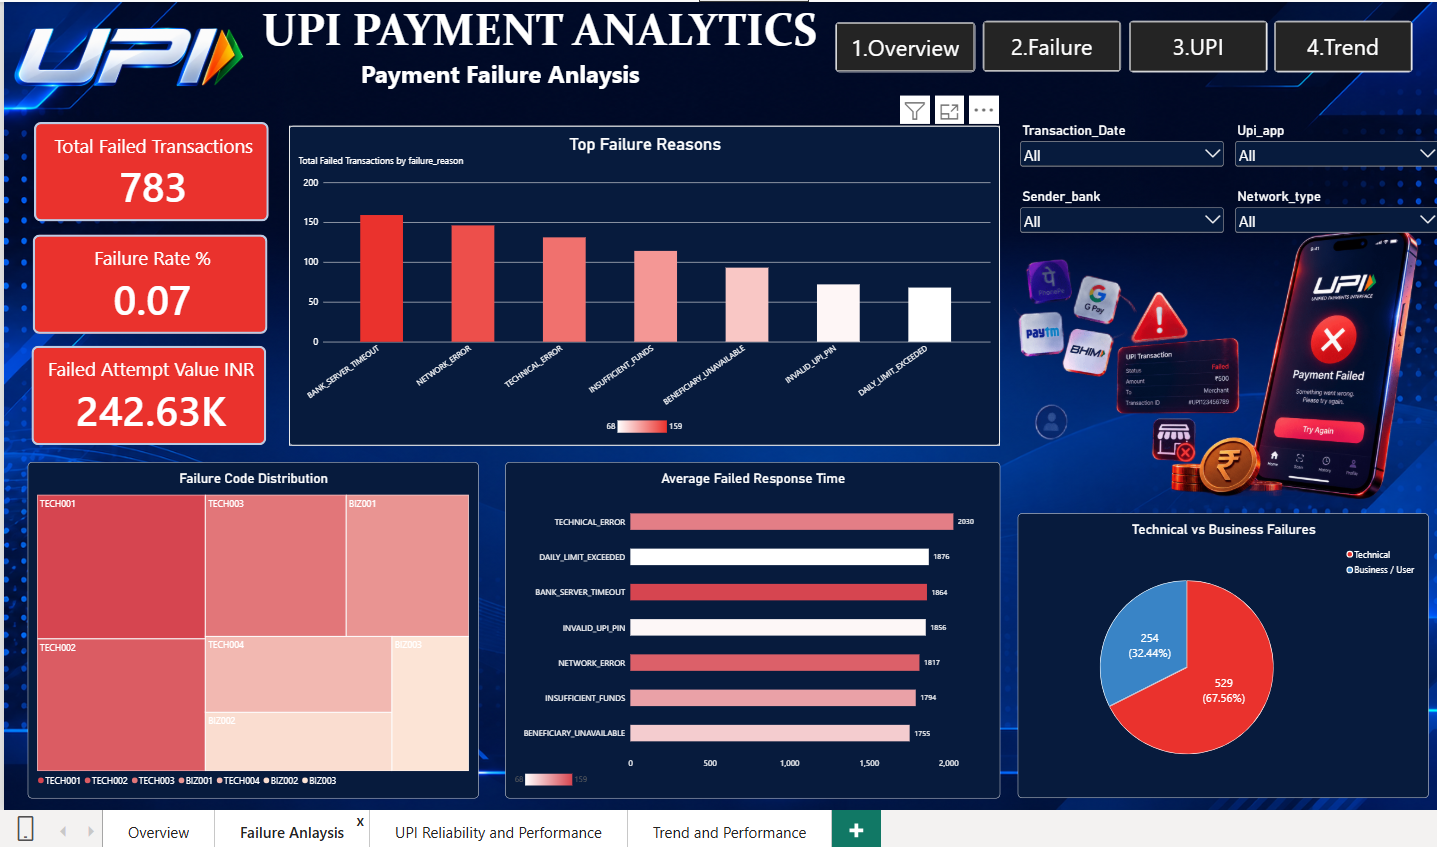

Layout of this report page (visuals, bound fields, positions):
{"tool":"powerbi","page":{"name":"Failure Anlaysis","canvas":[2560,1440],"ordinal":1},"visuals":[{"type":"textbox","box":[0,0,2560.6,181.1],"z":0},{"type":"actionButton","title":"1.Overview","box":[1481,35.3,249.5,89.5],"z":2000},{"type":"actionButton","title":"1.Overview","box":[1744.1,32.5,246.6,91.4],"z":3000},{"type":"image","box":[1784.8,355.3,753.8,587.5],"z":4000},{"type":"cardVisual","title":"To","fields":{"Data":["upi_transactions_cleaned.Total Failed Transactions"]},"box":[54.2,214.3,418.4,177.4],"z":5000},{"type":"cardVisual","title":"To","fields":{"Data":["upi_transactions_cleaned.Failure Rate %"]},"box":[51.5,415,418.4,177.4],"z":6000},{"type":"cardVisual","title":"To","fields":{"Data":["upi_transactions_cleaned.Failed Attempt Value INR"]},"box":[48.8,613,418.4,177.4],"z":7000},{"type":"clusteredColumnChart","title":"Top Failure Reasons","fields":{"Category":["upi_transactions_cleaned.failure_reason"],"Y":["upi_transactions_cleaned.Total Failed Transactions"]},"box":[507.2,219.7,1266.7,569.6],"z":8000},{"type":"pieChart","title":"Technical vs Business Failures","fields":{"Category":["upi_transactions_cleaned.failure_group"],"Y":["upi_transactions_cleaned.Total Failed Transactions"]},"box":[1806.5,911.4,732.4,507.2],"z":9000},{"type":"treemap","title":"Failure Code Distribution","fields":{"Group":["upi_transactions_cleaned.failure_code"],"Values":["upi_transactions_cleaned.Total Failed Transactions"]},"box":[43.4,819.2,802.9,599.5],"z":10000},{"type":"clusteredBarChart","title":"Average Failed Response Time","fields":{"Category":["upi_transactions_cleaned.failure_reason"],"Y":["upi_transactions_cleaned.Avg Failed Response Time ms"]},"box":[892.4,819.2,881.5,599.5],"z":11000},{"type":"slicer","fields":{"Values":["upi_transactions_cleaned.transaction_month"]},"box":[1806.5,214.3,371.3,102.5],"z":12000},{"type":"slicer","fields":{"Values":["upi_transactions_cleaned.sender_bank"]},"box":[1806.5,330.9,371.6,122.1],"z":13000},{"type":"slicer","fields":{"Values":["upi_transactions_cleaned.upi_app"]},"box":[2188.9,214.3,371.3,102.5],"z":14000},{"type":"slicer","fields":{"Values":["upi_transactions_cleaned.network_type"]},"box":[2188.9,330.9,371.3,102.5],"z":15000},{"type":"actionButton","title":"1.Overview","box":[2004.5,32.5,246.8,92.2],"z":16000},{"type":"actionButton","title":"1.Overview","box":[2262.2,32.5,246.8,92.2],"z":17000},{"type":"image","box":[10,10,426.8,180.1],"z":17001}]}

Visuals, with their boxes on the page's 2560x1440 design canvas (x1, y1, x2, y2). These are canvas units, not pixel positions in the 1437x847 screenshot, which may show the page scaled, cropped or inside an application window:
textbox: 0 0 2561 181
"1.Overview" actionButton: 1481 35 1730 125
"1.Overview" actionButton: 1744 32 1991 124
image: 1785 355 2539 943
"To" cardVisual: 54 214 473 392
"To" cardVisual: 52 415 470 592
"To" cardVisual: 49 613 467 790
"Top Failure Reasons" clusteredColumnChart: 507 220 1774 789
"Technical vs Business Failures" pieChart: 1806 911 2539 1419
"Failure Code Distribution" treemap: 43 819 846 1419
"Average Failed Response Time" clusteredBarChart: 892 819 1774 1419
slicer - upi_transactions_cleaned.transaction_month: 1806 214 2178 317
slicer - upi_transactions_cleaned.sender_bank: 1806 331 2178 453
slicer - upi_transactions_cleaned.upi_app: 2189 214 2560 317
slicer - upi_transactions_cleaned.network_type: 2189 331 2560 433
"1.Overview" actionButton: 2004 32 2251 125
"1.Overview" actionButton: 2262 32 2509 125
image: 10 10 437 190
